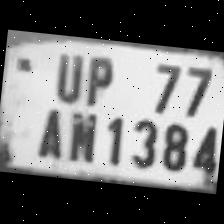1: (96, 108, 130, 168)
3: (122, 110, 160, 172)
4: (186, 118, 222, 178)
7: (176, 58, 214, 119), (144, 57, 183, 116)
8: (156, 116, 192, 175)
A: (29, 101, 70, 162)
N: (62, 106, 101, 163)
P: (79, 50, 118, 109)
U: (47, 46, 86, 106)
